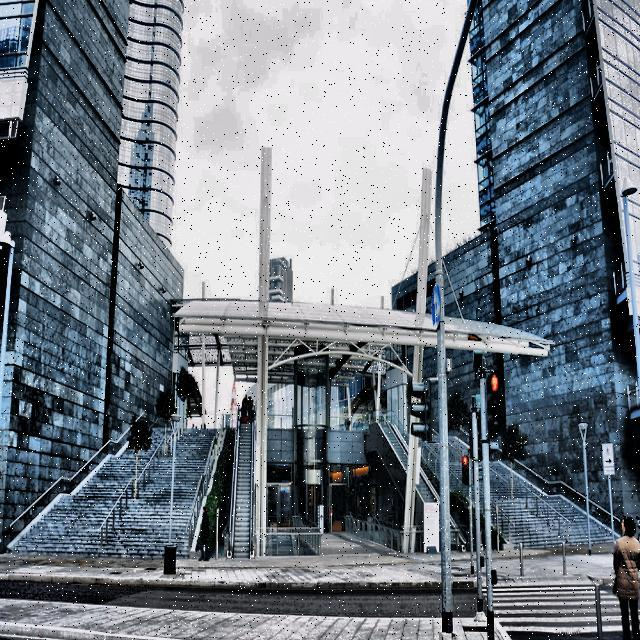red_light: (492, 374, 498, 392)
